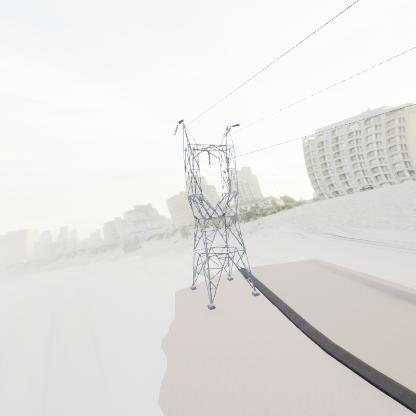tower: (174, 114, 260, 308)
